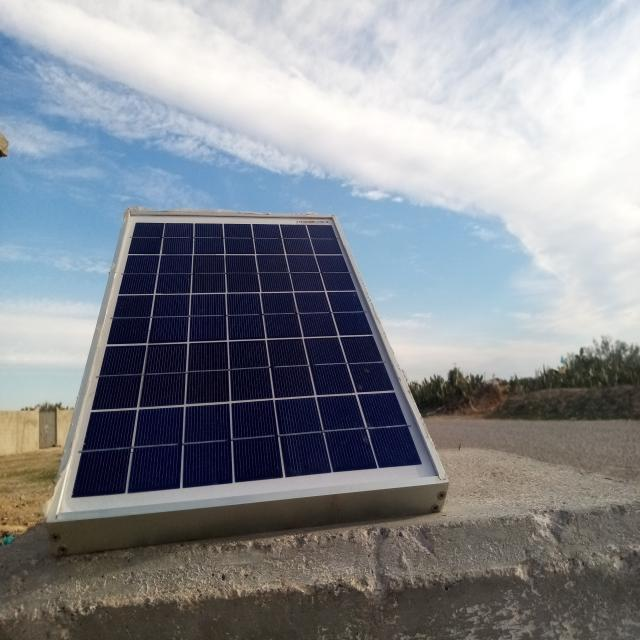no faulty: (59, 210, 446, 518)
